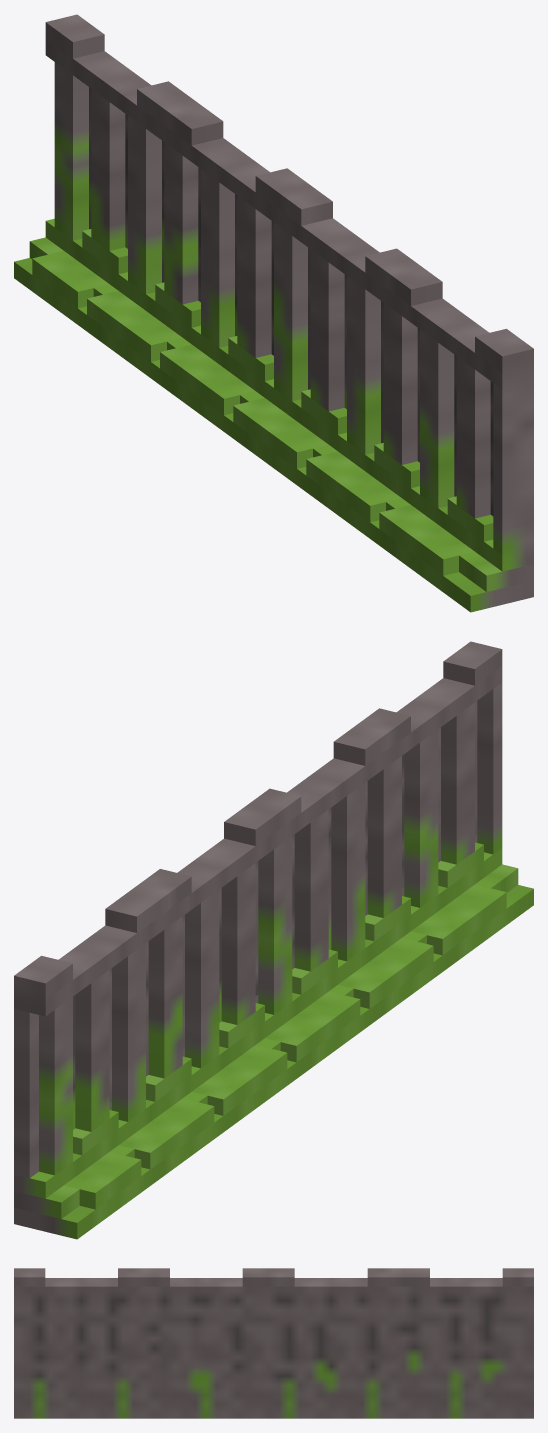
File: Ruin_Fence_state_01.fbx
The picture shows the model from 3 angles, top to bottom: view 1: azimuth 30°, elevation 25°; view 2: azimuth 150°, elevation 25°; view 3: azimuth 270°, elevation 25°; orthographic projection. The views are drawn at different scales.
Visible parts, largest first — view 1: Ruin_Fence_state_01; view 2: Ruin_Fence_state_01; view 3: Ruin_Fence_state_01.
Boxes of the visible parts, box(x1,y1,x2,y2) form: Ruin_Fence_state_01: box(14, 14, 533, 612); Ruin_Fence_state_01: box(14, 641, 533, 1239); Ruin_Fence_state_01: box(14, 1268, 533, 1418).
Bounding box in the file's own units: 4 × 15 × 50.
Materials: 1 (1 with a texture image).
